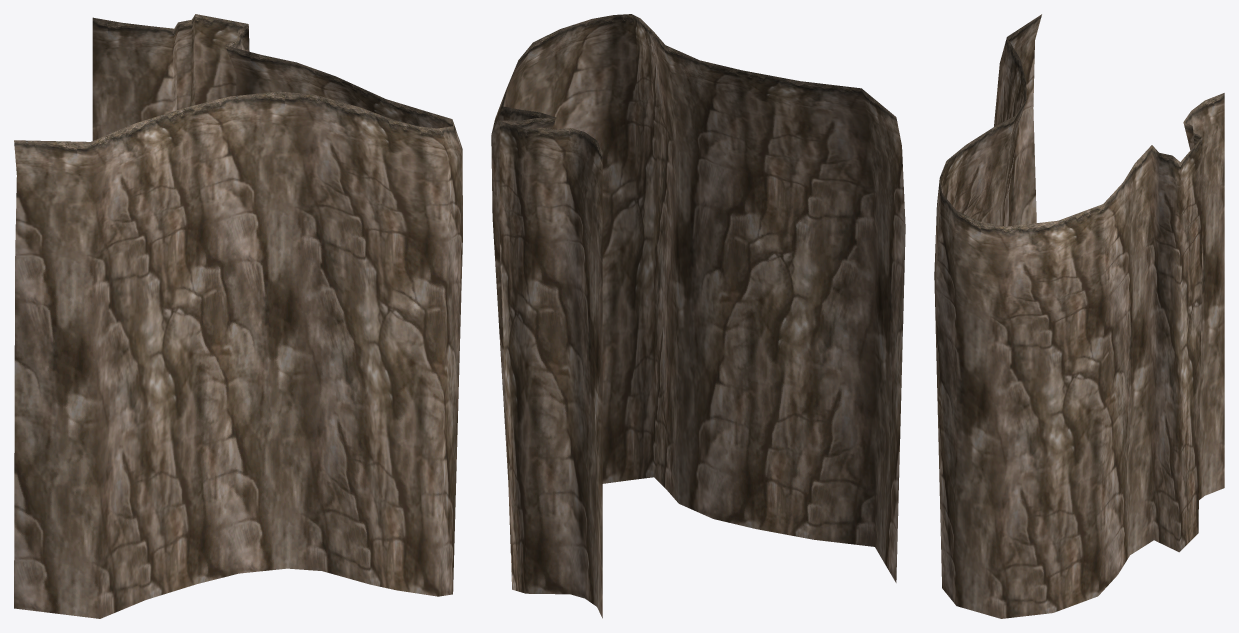
Rendered from OVERHILL_A_01_LINE02.fbx.
3 views of the same model, side by side, from view 1: azimuth 30°, elevation 25°; view 2: azimuth 150°, elevation 25°; view 3: azimuth 270°, elevation 25° (orthographic). The views are drawn at different scales.
Parts seen in each view (by area): view 1: OVERHILL_A_01_LINE02; view 2: OVERHILL_A_01_LINE02; view 3: OVERHILL_A_01_LINE02.
Part boxes in pixels (left/top/right/bottom): OVERHILL_A_01_LINE02: left=14, top=14, right=462, bottom=618; OVERHILL_A_01_LINE02: left=491, top=14, right=905, bottom=618; OVERHILL_A_01_LINE02: left=934, top=14, right=1224, bottom=618.
Bounding box in the file's own units: 153455 × 185437 × 109625.
Materials: 2 (2 with a texture image).
